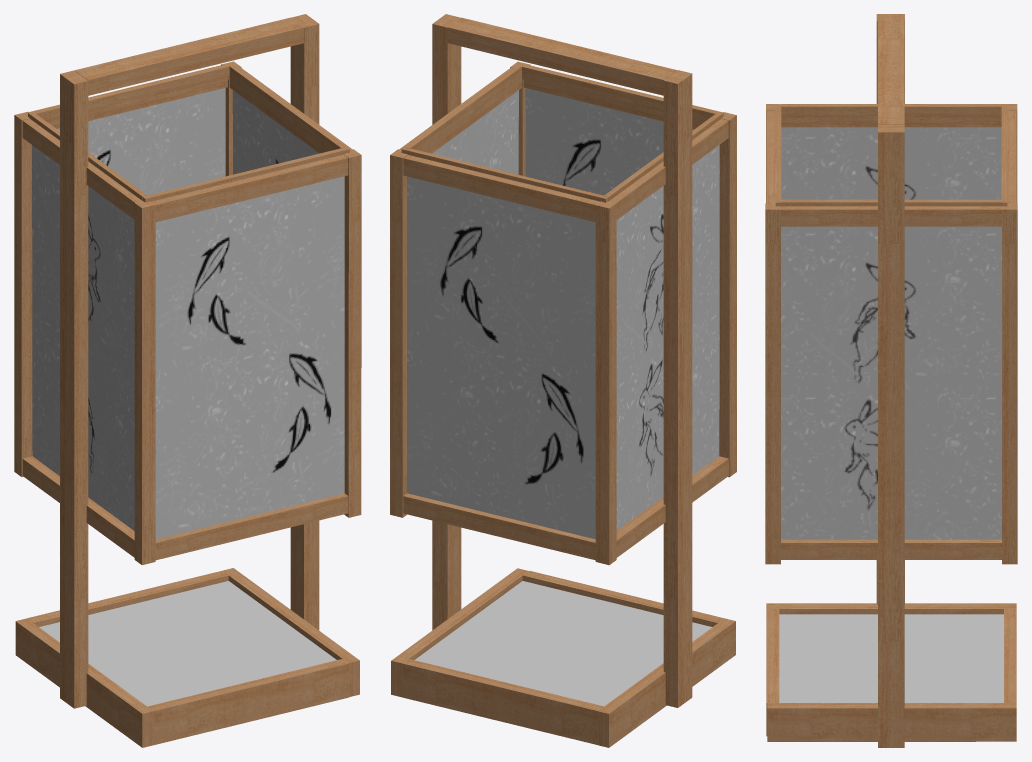
Rendered from jov_andon02b.fbx.
The picture shows the model from 3 angles, left to right: view 1: azimuth 30°, elevation 25°; view 2: azimuth 150°, elevation 25°; view 3: azimuth 270°, elevation 25°; orthographic projection.
Visible parts, largest first — view 1: jov_andon02b; view 2: jov_andon02b; view 3: jov_andon02b.
Boxes of the visible parts, <box> form: jov_andon02b: <box>14,14,361,747</box>; jov_andon02b: <box>390,14,736,747</box>; jov_andon02b: <box>765,14,1017,747</box>.
Bounding box in the file's own units: 33.92 × 82.52 × 30.54.
